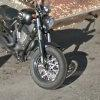Motorcycle: (2, 3, 72, 89)
